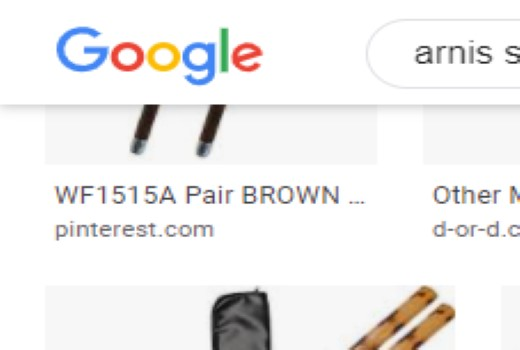baston_v: (123, 133, 157, 162), (411, 274, 439, 303), (191, 133, 216, 164), (434, 298, 461, 325)
